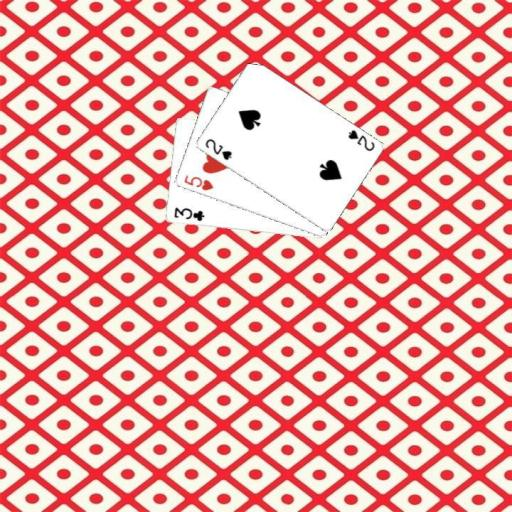2S: (345, 126, 376, 153), (202, 136, 233, 161)
3C: (171, 204, 206, 223)
5H: (181, 172, 215, 192)
